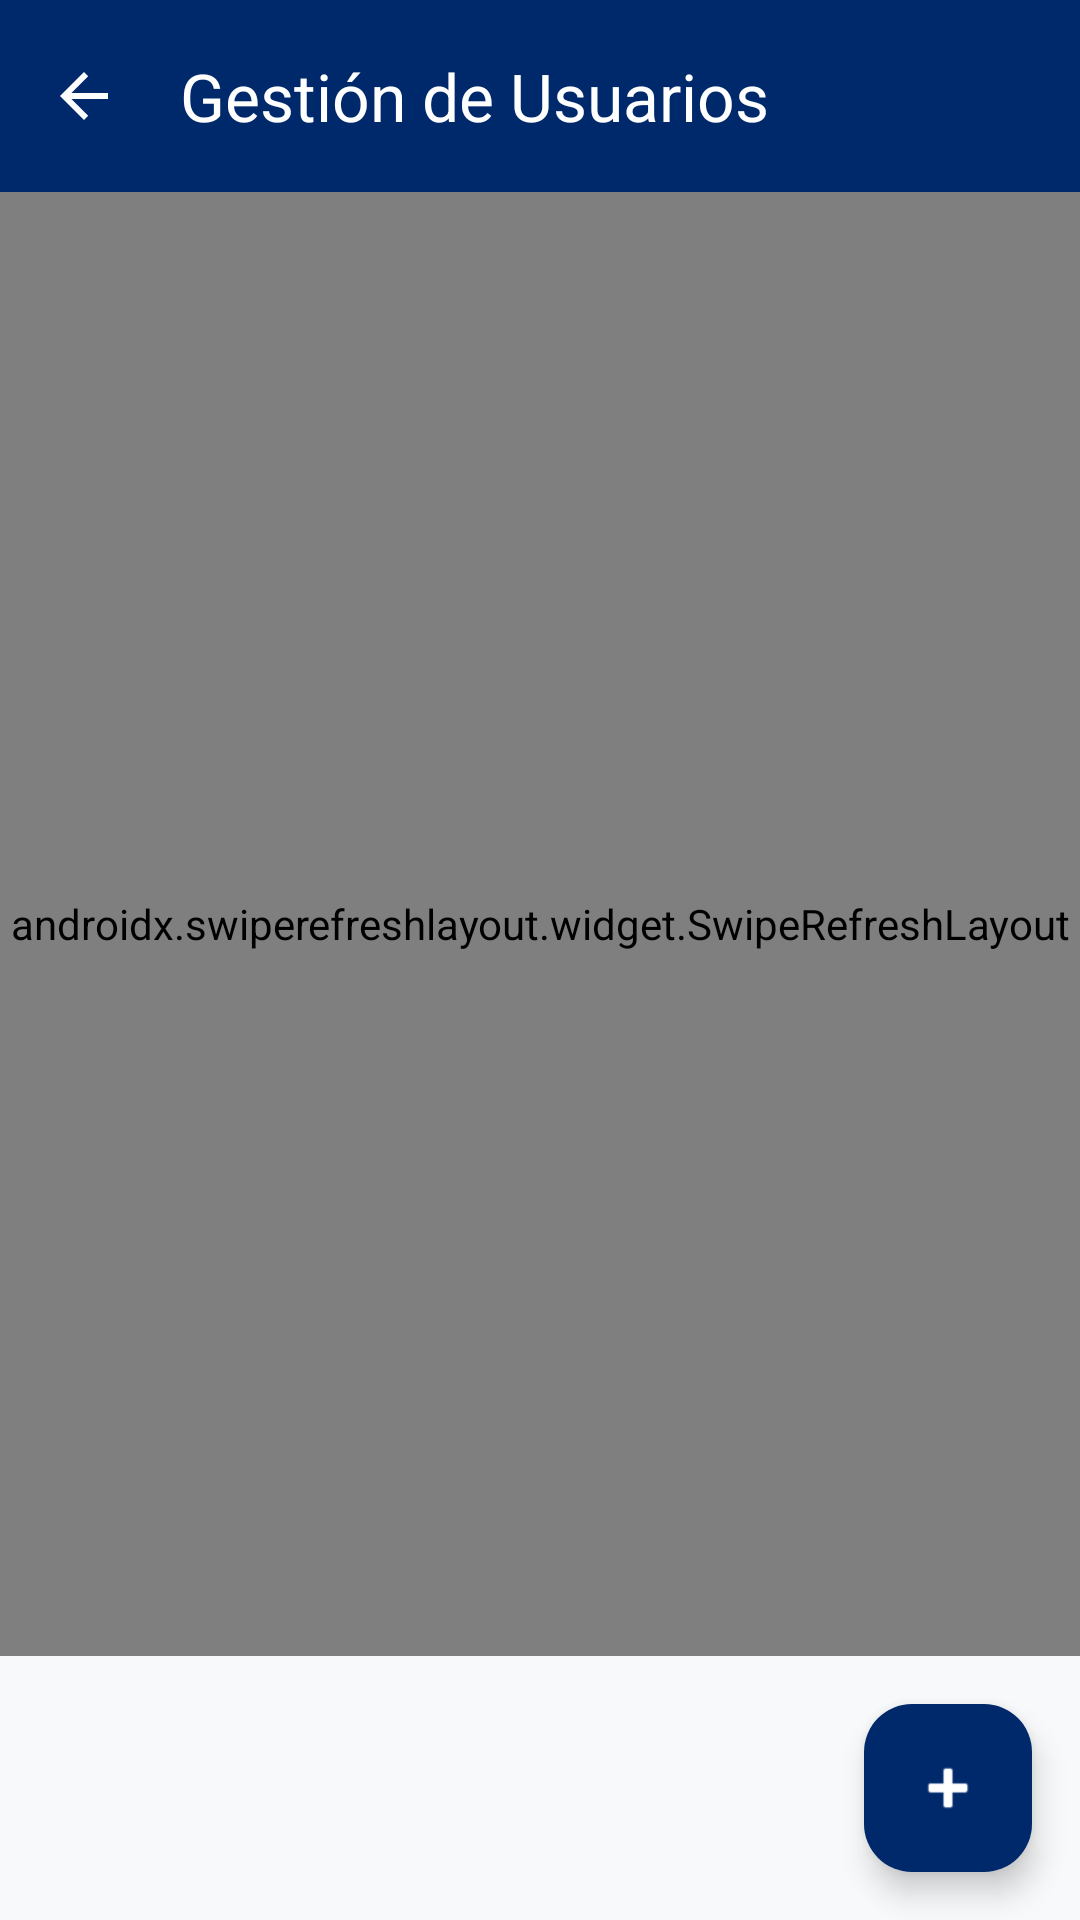

Point at icon controls on the screen. Image size 1080w x 1920h, points as [x,y].
Agregar usuario: [948,1788]
